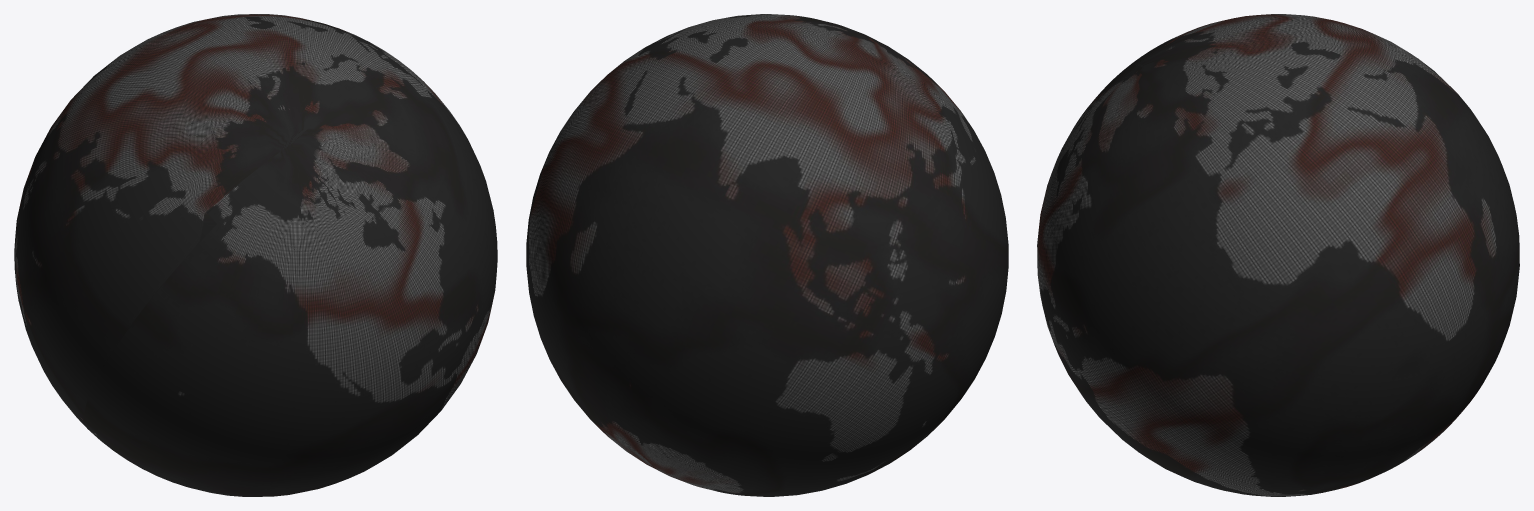
File: world.glb
The picture shows the model from 3 angles, left to right: view 1: azimuth 30°, elevation 25°; view 2: azimuth 150°, elevation 25°; view 3: azimuth 270°, elevation 25°; orthographic projection.
Visible parts, largest first — view 1: Sphere; view 2: Sphere; view 3: Sphere.
Boxes of the visible parts, left/top/right/bottom form: Sphere: left=14, top=14, right=497, bottom=496; Sphere: left=526, top=14, right=1008, bottom=496; Sphere: left=1037, top=14, right=1519, bottom=496.
Bounding box in the file's own units: 2 × 2 × 2.
1 material, 1 textured.
